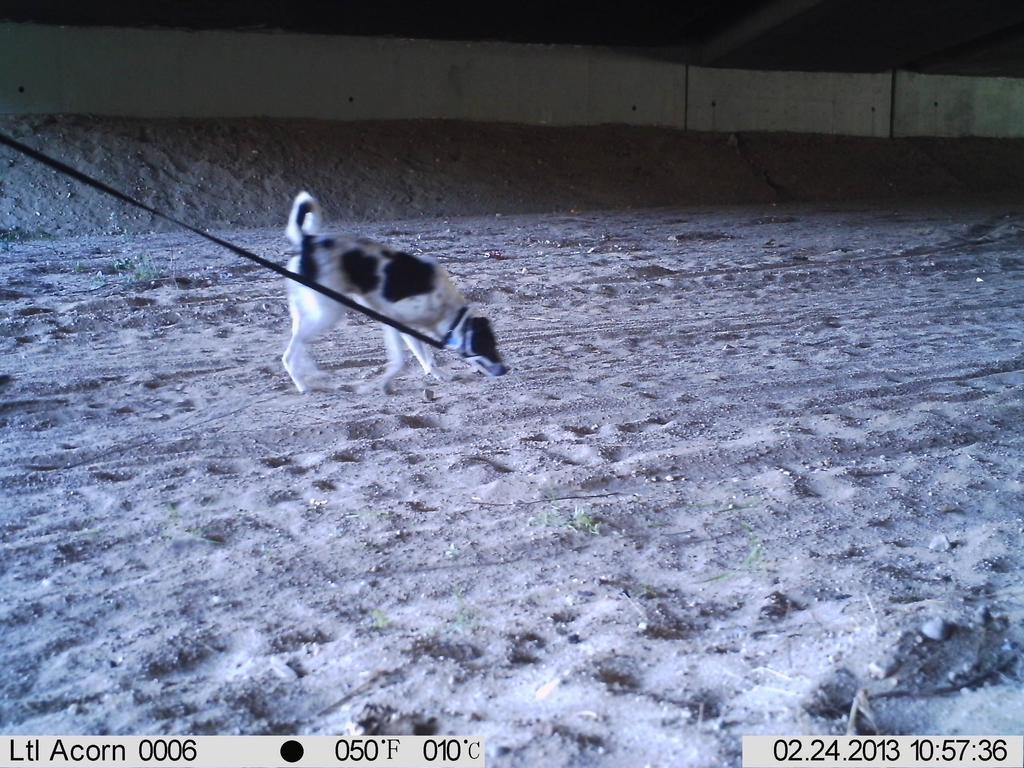dog: (273, 183, 516, 401)
